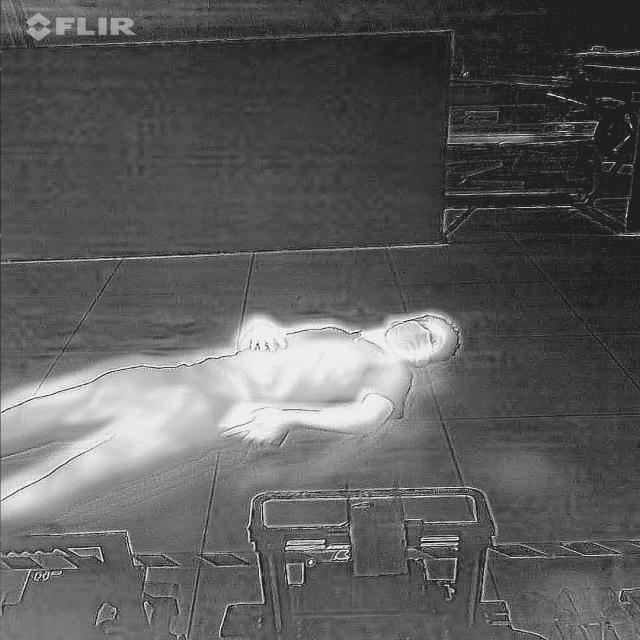Victim: (0, 298, 483, 536)
